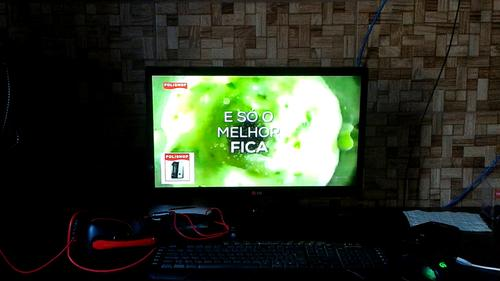Polishop #1: (158, 151, 194, 185)
